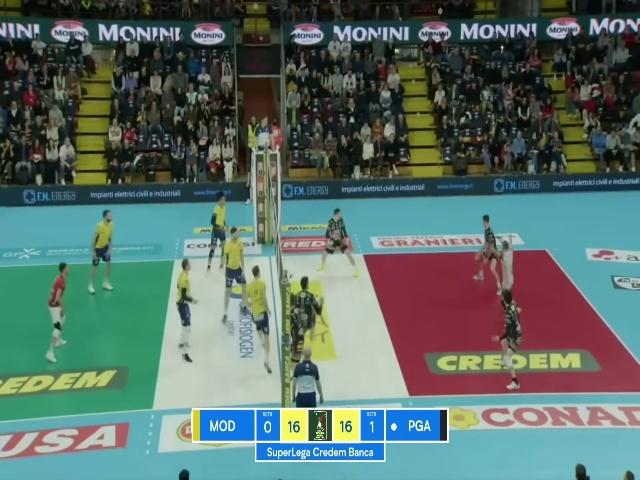volleyball court: (0, 246, 639, 419)
